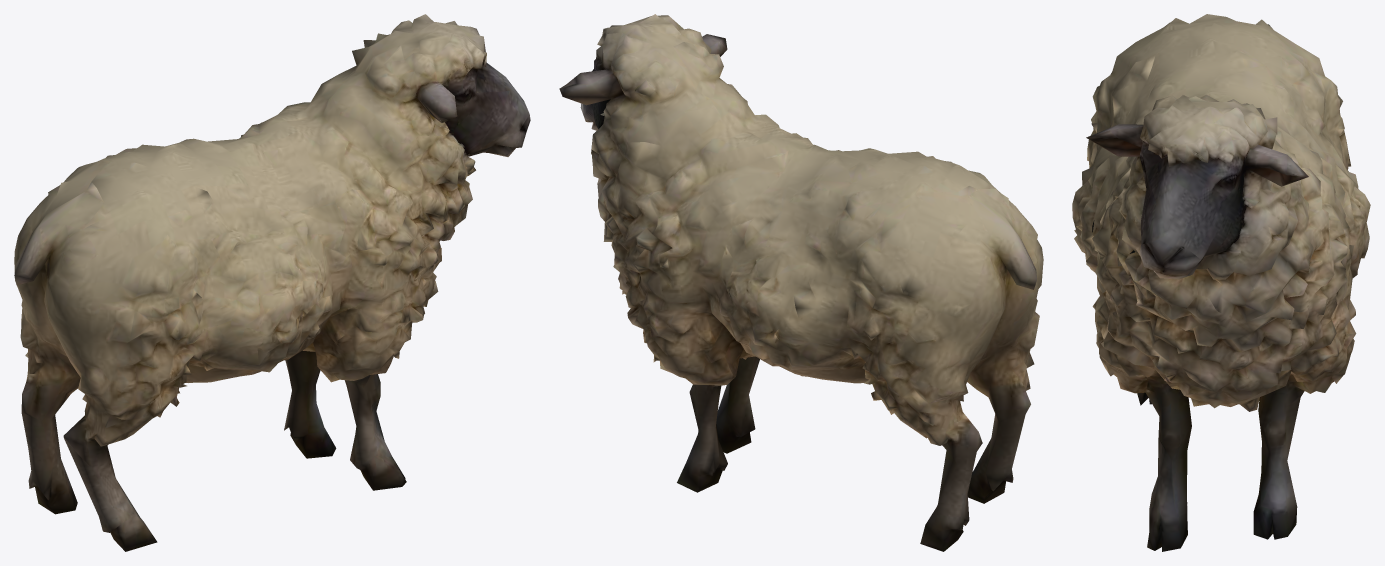
File: sheep.glb
3 views of the same model, side by side, from view 1: azimuth 30°, elevation 25°; view 2: azimuth 150°, elevation 25°; view 3: azimuth 270°, elevation 25° (orthographic). The views are drawn at different scales.
Visible parts, largest first — view 1: sheep; view 2: sheep; view 3: sheep.
Part boxes in pixels (x1,y1,x2,y2): sheep: (14,14,530,551); sheep: (559,14,1043,551); sheep: (1072,14,1370,551).
Size of the model in its own units: 1.15 by 0.9623 by 0.5482.
1 material, 1 textured.
